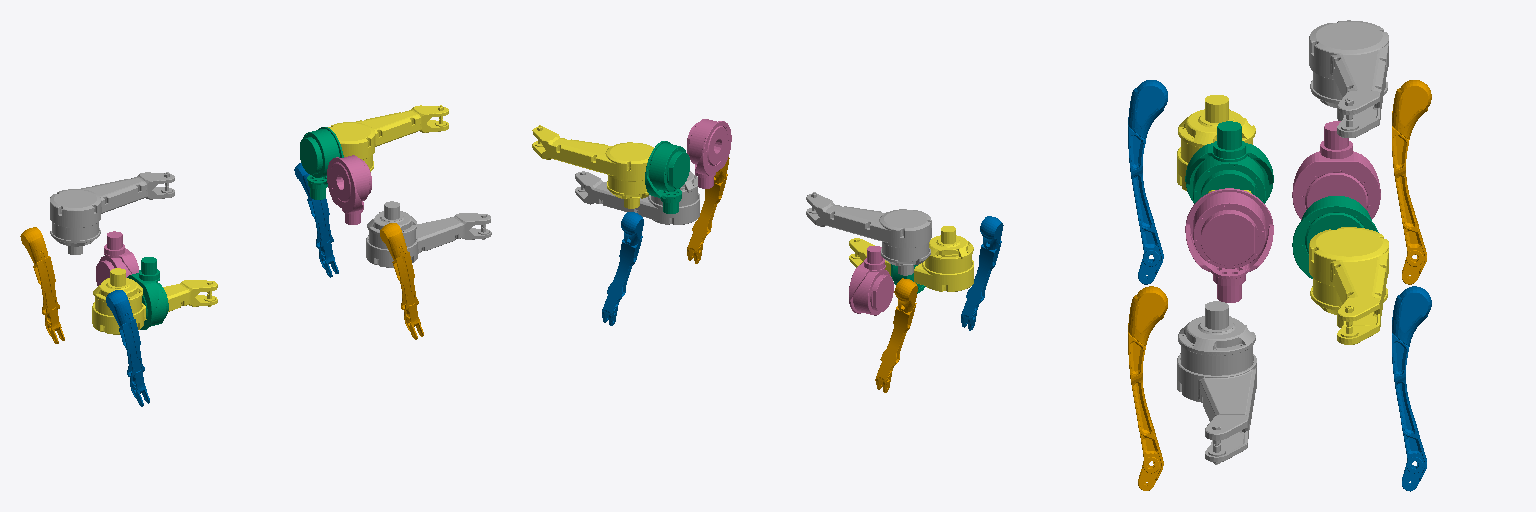
The robot description file, URDF, robot "comar":
<?xml version="1.0" ?>

<robot name="comar">

  <link name="comar/base_link"> </link>
  <joint name="comar/base_joint" type="fixed">
    <origin rpy="0 0 0" xyz="0 0 0"/>
    <parent link="comar/base_link"/>
    <child link="comar/base_link_inertia"/>
  </joint>
  <link name="comar/base_link_inertia">
    <inertial>
      <mass value="4.713"/>
      <origin rpy="0 0 0" xyz="0 0 0"/>
      <inertia ixx="0.01683993" ixy="8.3902e-05" ixz="0.000597679" iyy="0.056579028" iyz="2.5134e-05" izz="0.064713601"/>
    </inertial>
    <visual>
      <origin rpy="0 0 0" xyz="0 0 0"/>
      <geometry>
        <mesh filename="../meshes/ROBOT_GOVDE.stl"/>
      </geometry>
    </visual>
    <collision>
      <origin rpy="0 0 0" xyz="0 0 0"/>
      <geometry>
        <box size="0.267 0.194 0.114"/>
      </geometry>
      <!-- <geometry>
        <mesh filename="../meshes/ROBOT_GOVDE.stl"/>
      </geometry> -->
    </collision>
  </link>
  
  <!-- ================================================_LEG 1 - FL_======================================================== -->
  <joint name="comar/abad_1_joint" type="revolute">
    <dynamics damping="0" friction="0"/>
    <limit effort="20" lower="-0.802851455917" upper="0.802851455917" velocity="52.4"/>
    <origin rpy="0 0 0" xyz="222.50e-3 65.50e-3 0"/>
    <axis xyz="1 0 0"/>
    <parent link="comar/base_link"/>
    <child link="comar/abad_1"/>
  </joint>
  <link name="comar/abad_1">
    <inertial>
      <origin rpy="0 0 0" xyz="-0.003311 0.000635 3.1e-05"/>
      <mass value="0.696"/>
      
      <inertia ixx="1220.42e-06" ixy="-4.428e-06" ixz="-0.8715e-06" iyy="693.402e-06" iyz="158.578e-06" izz="835.772e-06"/>
    </inertial>
    <visual>
      <origin rpy="0 0 0" xyz="0 0 0"/>
      <geometry>
        <mesh filename="../meshes/ROBOT_ABDUCTION_FL.stl"/>
      </geometry>
    </visual>
    <collision>
      <origin rpy="0 0 0" xyz="0 0 0"/>
      <geometry>
        <mesh filename="../meshes/ROBOT_ABDUCTION_FL.stl"/>
      </geometry>
    </collision>
  </link>
  <joint name="comar/hip_1_joint" type="revolute">
    <dynamics damping="0" friction="0"/>
    <limit effort="55" lower="-1.0471975512" upper="4.18879020479" velocity="28.6"/>
    <origin rpy="0 0 0" xyz="0.07675 0.0155 0 "/>
    <axis xyz="0 1 0"/>
    <parent link="comar/abad_1"/>
    <child link="comar/hip_1"/>
  </joint>
  <link name="comar/hip_1">
    <inertial>
      <origin xyz="-0.00309 0.05402 -0.02642"/>
      <mass value="1.013"/>
      <inertia ixx="0.005529065" ixy="4.825e-06" ixz="0.000343869" iyy="0.005139339" iyz="2.2448e-05" izz="0.001367788"/>
    </inertial>
    <visual>
      <origin rpy="0 0 0" xyz="0 0 0"/>
      <geometry>
        <mesh filename="../meshes/ROBOT_HIP_L.stl"/>
      </geometry>
    </visual>
    <collision>
      <origin rpy="0 0 0" xyz="0 0 0"/>
      <geometry>
        <mesh filename="../meshes/ROBOT_HIP_L.stl"/>
      </geometry>
    </collision>
  </link>
  <joint name="comar/knee_1_joint" type="revolute">
    <dynamics damping="0" friction="0"/>
    <limit effort="55" lower="-2.69653369433" upper="-0.916297857297" velocity="28.6"/>
    <origin rpy="0 0 0" xyz="0 0.08024 -0.2 "/>
    <axis xyz="0 1 0"/>
    <parent link="comar/hip_1"/>
    <child link="comar/knee_1"/>
  </joint>
  <link name="comar/knee_1">
    <inertial>
      <origin xyz="0.00708 -0.0009 0.13802"/>
      <mass value="0.166"/>
      <inertia ixx="0.002997972" ixy="0.0" ixz="-0.000141163" iyy="0.003014022" iyz="0.0" izz="3.2426e-05"/>
    </inertial>
    <visual>
      <origin rpy="0 0 0" xyz="0 0 0"/>
      <geometry>
        <mesh filename="../meshes/ROBOT_KNEE.stl"/>
      </geometry>
    </visual>
    <collision>
      <origin rpy="0 0 0" xyz="0 0 0"/>
      <geometry>
        <mesh filename="../meshes/ROBOT_KNEE.stl"/>
      </geometry>
    </collision>
  </link>
  <joint name="comar/foot_1_joint" type="fixed">
    <origin rpy="0 0 0" xyz="0 0 -0.199696 "/>
    <parent link="comar/knee_1"/>
    <child link="comar/foot_1"/>
  </joint>
  <link name="comar/foot_1">
    <inertial>
      <origin xyz="0.0 0.0 0.0"/>
      <mass value="0.06"/>
      <inertia ixx="9.6e-06" ixy="0.0" ixz="0.0" iyy="9.6e-06" iyz="0.0" izz="9.6e-06"/>
    </inertial>
    <visual>
      <origin rpy="0 0 0" xyz="0 0 0"/>
      <geometry>
        <mesh filename="../meshes/ROBOT_FOOT.stl"/>
      </geometry>
    </visual>
    <collision>
      <origin rpy="0 0 0" xyz="0 0 0"/>
      <geometry>
        <mesh filename="../meshes/ROBOT_FOOT.stl"/>
      </geometry>
    </collision>
  </link>
  <!-- ================================================_LEG 2 - FR_======================================================== -->
  <joint name="comar/abad_2_joint" type="revolute">
    <dynamics damping="0" friction="0"/>
    <limit effort="20" lower="-0.802851455917" upper="0.802851455917" velocity="52.4"/>
    <origin rpy="0 0 0" xyz="222.50e-3 -65.50e-3 0"/>
    <axis xyz="1 0 0"/>
    <parent link="comar/base_link"/>
    <child link="comar/abad_2"/>
  </joint>
  <link name="comar/abad_2">
    <inertial>
      <origin xyz="-0.011366 -0.007729 0.0048783"/>
      <mass value="0.696"/>
      <!-- [kg] -->
      <inertia ixx="0.000469246" ixy="9.409e-06" ixz="-3.42e-07" iyy="0.00080749" iyz="4.66e-07" izz="0.000552929"/>
    </inertial>
    <visual>
      <origin rpy="0 0 0" xyz="0 0 0"/>
      <geometry>
        <mesh filename="../meshes/ROBOT_ABDUCTION_FR.stl"/>
      </geometry>
    </visual>
    <collision>
      <origin rpy="0 0 0" xyz="0 0 0"/>
      <geometry>
        <mesh filename="../meshes/ROBOT_ABDUCTION_FR.stl"/>
      </geometry>
    </collision>
  </link>

  <joint name="comar/hip_2_joint" type="revolute">
    <dynamics damping="0" friction="0"/>
    <limit effort="55" lower="-1.0471975512" upper="4.18879020479" velocity="28.6"/>
    <origin rpy="0 0 0" xyz="0.07675 -0.0155 0 "/>
    <axis xyz="0 1 0"/>
    <parent link="comar/abad_2"/>
    <child link="comar/hip_2"/>
  </joint>
  <link name="comar/hip_2">
    <inertial>
      <origin xyz="-0.00309 -0.05402 -0.02642"/>
      <mass value="1.013"/>
      <inertia ixx="0.005529065" ixy="-4.825e-06" ixz="0.000343869" iyy="0.005139339" iyz="-2.2448e-05" izz="0.001367788"/>
    </inertial>
    <visual>
      <origin rpy="0 0 0" xyz="0 0 0"/>
      <geometry>
        <mesh filename="../meshes/ROBOT_HIP_R.stl"/>
      </geometry>
    </visual>
    <collision>
      <origin rpy="0 0 0" xyz="0 0 0"/>
      <geometry>
        <mesh filename="../meshes/ROBOT_HIP_R.stl"/>
      </geometry>
    </collision>
  </link>
  <joint name="comar/knee_2_joint" type="revolute">
    <dynamics damping="0" friction="0"/>
    <limit effort="55" lower="-2.69653369433" upper="-0.916297857297" velocity="28.6"/>
    <origin rpy="0 0 0" xyz="0 -0.08024 -0.2 "/>
    <axis xyz="0 1 0"/>
    <parent link="comar/hip_2"/>
    <child link="comar/knee_2"/>
  </joint>
  <link name="comar/knee_2">
    <inertial>
      <origin xyz="0.00708 0.0009 0.13802"/>
      <mass value="0.166"/>
      <inertia ixx="0.002997972" ixy="0.0" ixz="-0.000141163" iyy="0.003014022" iyz="0.0" izz="3.2426e-05"/>
    </inertial>
    <visual>
      <origin rpy="0 0 0" xyz="0 0 0"/>
      <geometry>
        <mesh filename="../meshes/ROBOT_KNEE.stl"/>
      </geometry>
    </visual>
    <collision>
      <origin rpy="0 0 0" xyz="0 0 0"/>
      <geometry>
        <mesh filename="../meshes/ROBOT_KNEE.stl"/>
      </geometry>
    </collision>
  </link>
  <joint name="comar/foot_2_joint" type="fixed">
    <origin rpy="0 0 0" xyz="0 0 -0.199696 "/>
    <parent link="comar/knee_2"/>
    <child link="comar/foot_2"/>
  </joint>
  <link name="comar/foot_2">
    <inertial>
      <origin xyz="0.0 0.0 0.0"/>
      <mass value="0.06"/>
      <inertia ixx="9.6e-06" ixy="0.0" ixz="0.0" iyy="9.6e-06" iyz="0.0" izz="9.6e-06"/>
    </inertial>
    <visual>
      <origin rpy="0 0 0" xyz="0 0 0"/>
      <geometry>
        <mesh filename="../meshes/ROBOT_FOOT.stl"/>
      </geometry>
    </visual>
    <collision>
      <origin rpy="0 0 0" xyz="0 0 0"/>
      <geometry>
        <mesh filename="../meshes/ROBOT_FOOT.stl"/>
      </geometry>
    </collision>
  </link>
  <!-- ================================================_LEG 4 - RL_======================================================== -->
  <joint name="comar/abad_4_joint" type="revolute">
    <dynamics damping="0" friction="0"/>
    <limit effort="20" lower="-0.802851455917" upper="0.802851455917" velocity="52.4"/>
    <origin rpy="0 0 0" xyz="-222.50e-3 -65.50e-3 0"/>
    <axis xyz="1 0 0"/>
    <parent link="comar/base_link"/>
    <child link="comar/abad_4"/>
  </joint>
  <link name="comar/abad_4">
    <inertial>
      <origin xyz="0.011366 -0.007729 0.0048783"/>
      <mass value="0.696"/>
      <inertia ixx="0.000469246" ixy="-9.409e-06" ixz="3.42e-07" iyy="0.00080749" iyz="4.66e-07" izz="0.000552929"/>
    </inertial>
    <visual>
      <origin rpy="0 0 0" xyz="0 0 0"/>
      <geometry>
        <mesh filename="../meshes/ROBOT_ABDUCTION_HR.stl"/>
      </geometry>
    </visual>
    <collision>
      <origin rpy="0 0 0" xyz="0 0 0"/>
      <geometry>
        <mesh filename="../meshes/ROBOT_ABDUCTION_HR.stl"/>
      </geometry>
    </collision>
  </link>
  <joint name="comar/hip_4_joint" type="revolute">
    <dynamics damping="0" friction="0"/>
    <limit effort="55" lower="-1.0471975512" upper="4.18879020479" velocity="28.6"/>
    <origin rpy="0 0 0" xyz="-0.07675 -0.0155 0 "/>
    <axis xyz="0 1 0"/>
    <parent link="comar/abad_4"/>
    <child link="comar/hip_4"/>
  </joint>
  <link name="comar/hip_4">
    <inertial>
      <origin xyz="-0.00309 -0.05402 -0.02642"/>
      <mass value="1.013"/>
      <inertia ixx="0.005529065" ixy="-4.825e-06" ixz="0.000343869" iyy="0.005139339" iyz="-2.2448e-05" izz="0.001367788"/>
    </inertial>
    <visual>
      <origin rpy="0 0 0" xyz="0 0 0"/>
      <geometry>
        <mesh filename="../meshes/ROBOT_HIP_R.stl"/>
      </geometry>
    </visual>
    <collision>
      <origin rpy="0 0 0" xyz="0 0 0"/>
      <geometry>
        <mesh filename="../meshes/ROBOT_HIP_R.stl"/>
      </geometry>
    </collision>
  </link>
  <joint name="comar/knee_4_joint" type="revolute">
    <dynamics damping="0" friction="0"/>
    <limit effort="55" lower="-2.69653369433" upper="-0.916297857297" velocity="28.6"/>
    <origin rpy="0 0 0" xyz="0 -0.08024 -0.2 "/>
    <axis xyz="0 1 0"/>
    <parent link="comar/hip_4"/>
    <child link="comar/knee_4"/>
  </joint>
  <link name="comar/knee_4">
    <inertial>
      <origin xyz="0.00708 -0.0009 0.13802"/>
      <mass value="0.166"/>
      <inertia ixx="0.002997972" ixy="0.0" ixz="-0.000141163" iyy="0.003014022" iyz="0.0" izz="3.2426e-05"/>
    </inertial>
    <visual>
      <origin rpy="0 0 0" xyz="0 0 0"/>
      <geometry>
        <mesh filename="../meshes/ROBOT_KNEE.stl"/>
      </geometry>
    </visual>
    <collision>
      <origin rpy="0 0 0" xyz="0 0 0"/>
      <geometry>
        <mesh filename="../meshes/ROBOT_KNEE.stl"/>
      </geometry>
    </collision>
  </link>
  <joint name="comar/foot_4_joint" type="fixed">
    <origin rpy="0 0 0" xyz="0 0 -0.199696 "/>
    <parent link="comar/knee_4"/>
    <child link="comar/foot_4"/>
  </joint>
  <link name="comar/foot_4">
    <inertial>
      <origin xyz="0.0 0.0 0.0"/>
      <mass value="0.06"/>
      <inertia ixx="9.6e-06" ixy="0.0" ixz="0.0" iyy="9.6e-06" iyz="0.0" izz="9.6e-06"/>
    </inertial>
    <visual>
      <origin rpy="0 0 0" xyz="0 0 0"/>
      <geometry>
        <mesh filename="../meshes/ROBOT_FOOT.stl"/>
      </geometry>
    </visual>
    <collision>
      <origin rpy="0 0 0" xyz="0 0 0"/>
      <geometry>
        <mesh filename="../meshes/ROBOT_FOOT.stl"/>
      </geometry>
    </collision>
  </link>
  <!-- ================================================_LEG 4 - RR_======================================================== -->
  <joint name="comar/abad_3_joint" type="revolute">
    <dynamics damping="0" friction="0"/>
    <limit effort="20" lower="-0.802851455917" upper="0.802851455917" velocity="52.4"/>
    <origin rpy="0 0 0" xyz="-222.50e-3 65.50e-3 0"/>
    <axis xyz="1 0 0"/>
    <parent link="comar/base_link"/>
    <child link="comar/abad_3"/>
  </joint>
  <link name="comar/abad_3">
    <inertial>
      <origin xyz="0.011366 0.007729 0.0048783"/>
      <mass value="0.696"/>
      <inertia ixx="0.000469246" ixy="9.409e-06" ixz="3.42e-07" iyy="0.00080749" iyz="-4.66e-07" izz="0.000552929"/>
    </inertial>
    <visual>
      <origin rpy="0 0 0" xyz="0 0 0"/>
      <geometry>
        <mesh filename="../meshes/ROBOT_ABDUCTION_HL.stl"/>
      </geometry>
    </visual>
    <collision>
      <origin rpy="0 0 0" xyz="0 0 0"/>
      <geometry>
        <mesh filename="../meshes/ROBOT_ABDUCTION_HL.stl"/>
      </geometry>
    </collision>
  </link>
  <joint name="comar/hip_3_joint" type="revolute">
    <dynamics damping="0" friction="0"/>
    <limit effort="55" lower="-1.0471975512" upper="4.18879020479" velocity="28.6"/>
    <origin rpy="0 0 0" xyz="-0.07675 0.0155 0 "/>
    <axis xyz="0 1 0"/>
    <parent link="comar/abad_3"/>
    <child link="comar/hip_3"/>
  </joint>
  <link name="comar/hip_3">
    <inertial>
      <origin xyz="-0.00309 0.05402 -0.02642"/>
      <mass value="1.013"/>
      <inertia ixx="0.005529065" ixy="4.825e-06" ixz="0.000343869" iyy="0.005139339" iyz="2.2448e-05" izz="0.001367788"/>
    </inertial>
    <visual>
      <origin rpy="0 0 0" xyz="0 0 0"/>
      <geometry>
        <mesh filename="../meshes/ROBOT_HIP_L.stl"/>
      </geometry>
    </visual>
    <collision>
      <origin rpy="0 0 0" xyz="0 0 0"/>
      <geometry>
        <mesh filename="../meshes/ROBOT_HIP_L.stl"/>
      </geometry>
    </collision>
  </link>
  <joint name="comar/knee_3_joint" type="revolute">
    <dynamics damping="0" friction="0"/>
    <limit effort="55" lower="-2.69653369433" upper="-0.916297857297" velocity="28.6"/>
    <origin rpy="0 0 0" xyz="0 0.08024 -0.2 "/>
    <axis xyz="0 1 0"/>
    <parent link="comar/hip_3"/>
    <child link="comar/knee_3"/>
  </joint>
  <link name="comar/knee_3">
    <inertial>
      <origin xyz="0.00708 0.0009 0.13802"/>
      <mass value="0.166"/>
      <inertia ixx="0.002997972" ixy="0.0" ixz="-0.000141163" iyy="0.003014022" iyz="0.0" izz="3.2426e-05"/>
    </inertial>
    <visual>
      <origin rpy="0 0 0" xyz="0 0 0"/>
      <geometry>
        <mesh filename="../meshes/ROBOT_KNEE.stl"/>
      </geometry>
    </visual>
    <collision>
      <origin rpy="0 0 0" xyz="0 0 0"/>
      <geometry>
        <mesh filename="../meshes/ROBOT_KNEE.stl"/>
      </geometry>
    </collision>
  </link>
  <joint name="comar/foot_3_joint" type="fixed">
    <origin rpy="0 0 0" xyz="0 0 -0.199696 "/>
    <parent link="comar/knee_3"/>
    <child link="comar/foot_3"/>
  </joint>
  <link name="comar/foot_3">
    <inertial>
      <origin xyz="0.0 0.0 0.0"/>
      <mass value="0.06"/>
      <inertia ixx="9.6e-06" ixy="0.0" ixz="0.0" iyy="9.6e-06" iyz="0.0" izz="9.6e-06"/>
    </inertial>
    <visual>
      <origin rpy="0 0 0" xyz="0 0 0"/>
      <geometry>
        <mesh filename="../meshes/ROBOT_FOOT.stl"/>
      </geometry>
    </visual>
    <collision>
      <origin rpy="0 0 0" xyz="0 0 0"/>
      <geometry>
        <mesh filename="../meshes/ROBOT_FOOT.stl"/>
      </geometry>
    </collision>
  </link>

</robot>

--- Render facts (derived) ---
3 views of the same robot in one strip: view 1: azimuth 30°, elevation 25°; view 2: azimuth 150°, elevation 25°; view 3: azimuth 270°, elevation 25° (orthographic).
Robot: comar — 18 links, 17 joints (12 revolute, 5 fixed); root link comar/base_link; default pose: all joints at 0 but 4 set to mid-range because 0 is outside their limits (comar/knee_1_joint = -1.81, comar/knee_2_joint = -1.81, comar/knee_4_joint = -1.81, comar/knee_3_joint = -1.81).
Visible links, largest first — view 1: comar/hip_3, comar/hip_2, comar/hip_1, comar/hip_4, comar/abad_2, comar/abad_1, comar/knee_3, comar/knee_2, comar/knee_4, comar/abad_4, comar/knee_1, comar/abad_3; view 2: comar/hip_3, comar/hip_1, comar/hip_4, comar/hip_2, comar/abad_1, comar/abad_2, comar/abad_3, comar/knee_4, comar/knee_3, comar/knee_1, comar/knee_2; view 3: comar/hip_2, comar/hip_1, comar/hip_3, comar/abad_2, comar/abad_3, comar/abad_4, comar/knee_4, comar/knee_2, comar/knee_3, comar/knee_1, comar/abad_1, comar/hip_4.
Link boxes in pixels (left/top/right/bottom): comar/hip_3: left=50, top=172, right=174, bottom=254; comar/hip_2: left=366, top=201, right=491, bottom=267; comar/hip_1: left=328, top=105, right=448, bottom=171; comar/hip_4: left=92, top=268, right=217, bottom=334; comar/abad_2: left=327, top=155, right=371, bottom=224; comar/abad_1: left=300, top=127, right=343, bottom=199; comar/knee_3: left=20, top=227, right=64, bottom=343; comar/knee_2: left=380, top=223, right=423, bottom=339; comar/knee_4: left=106, top=290, right=149, bottom=406; comar/abad_4: left=127, top=257, right=168, bottom=329; comar/knee_1: left=294, top=163, right=338, bottom=277; comar/abad_3: left=96, top=231, right=138, bottom=285; comar/hip_3: left=806, top=192, right=931, bottom=275; comar/hip_1: left=532, top=125, right=653, bottom=208; comar/hip_4: left=849, top=226, right=973, bottom=291; comar/hip_2: left=575, top=171, right=699, bottom=224; comar/abad_1: left=645, top=141, right=689, bottom=213; comar/abad_2: left=687, top=119, right=731, bottom=188; comar/abad_3: left=849, top=246, right=893, bottom=315; comar/knee_4: left=961, top=216, right=1003, bottom=330; comar/knee_3: left=875, top=278, right=917, bottom=392; comar/knee_1: left=602, top=212, right=643, bottom=325; comar/knee_2: left=687, top=157, right=729, bottom=263; comar/hip_2: left=1177, top=301, right=1256, bottom=464; comar/hip_1: left=1309, top=227, right=1388, bottom=344; comar/hip_3: left=1309, top=20, right=1388, bottom=137; comar/abad_2: left=1185, top=188, right=1273, bottom=302; comar/abad_3: left=1292, top=121, right=1380, bottom=219; comar/abad_4: left=1185, top=121, right=1273, bottom=203; comar/knee_4: left=1128, top=80, right=1167, bottom=284; comar/knee_2: left=1128, top=286, right=1167, bottom=490; comar/knee_3: left=1392, top=80, right=1431, bottom=284; comar/knee_1: left=1392, top=286, right=1431, bottom=491; comar/abad_1: left=1292, top=196, right=1378, bottom=278; comar/hip_4: left=1177, top=95, right=1255, bottom=193.
Bounding box of the posed robot: 0.8806 × 0.3718 × 0.3584 m (x, y, z).
12 mesh visuals loaded from 9 distinct referenced files (7 binary STL); not drawn: 5 (reference not matched to a file when rendering).
